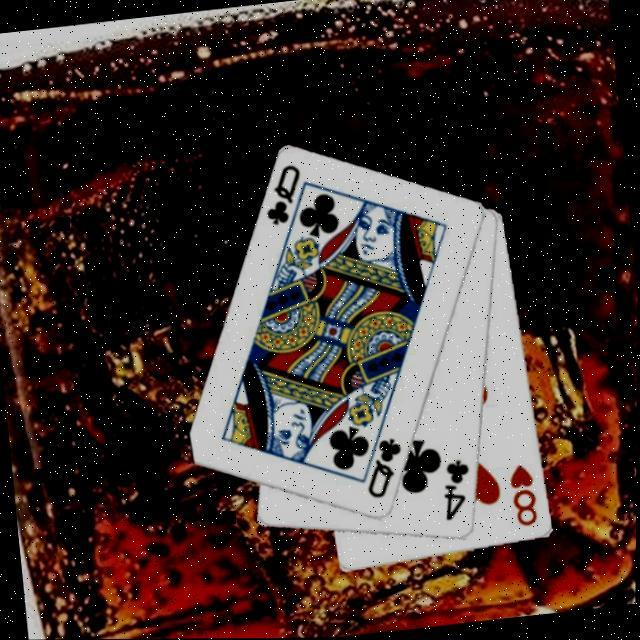4C: (435, 454, 476, 524)
8H: (504, 458, 540, 530)
QC: (256, 159, 308, 228), (358, 432, 408, 501)
